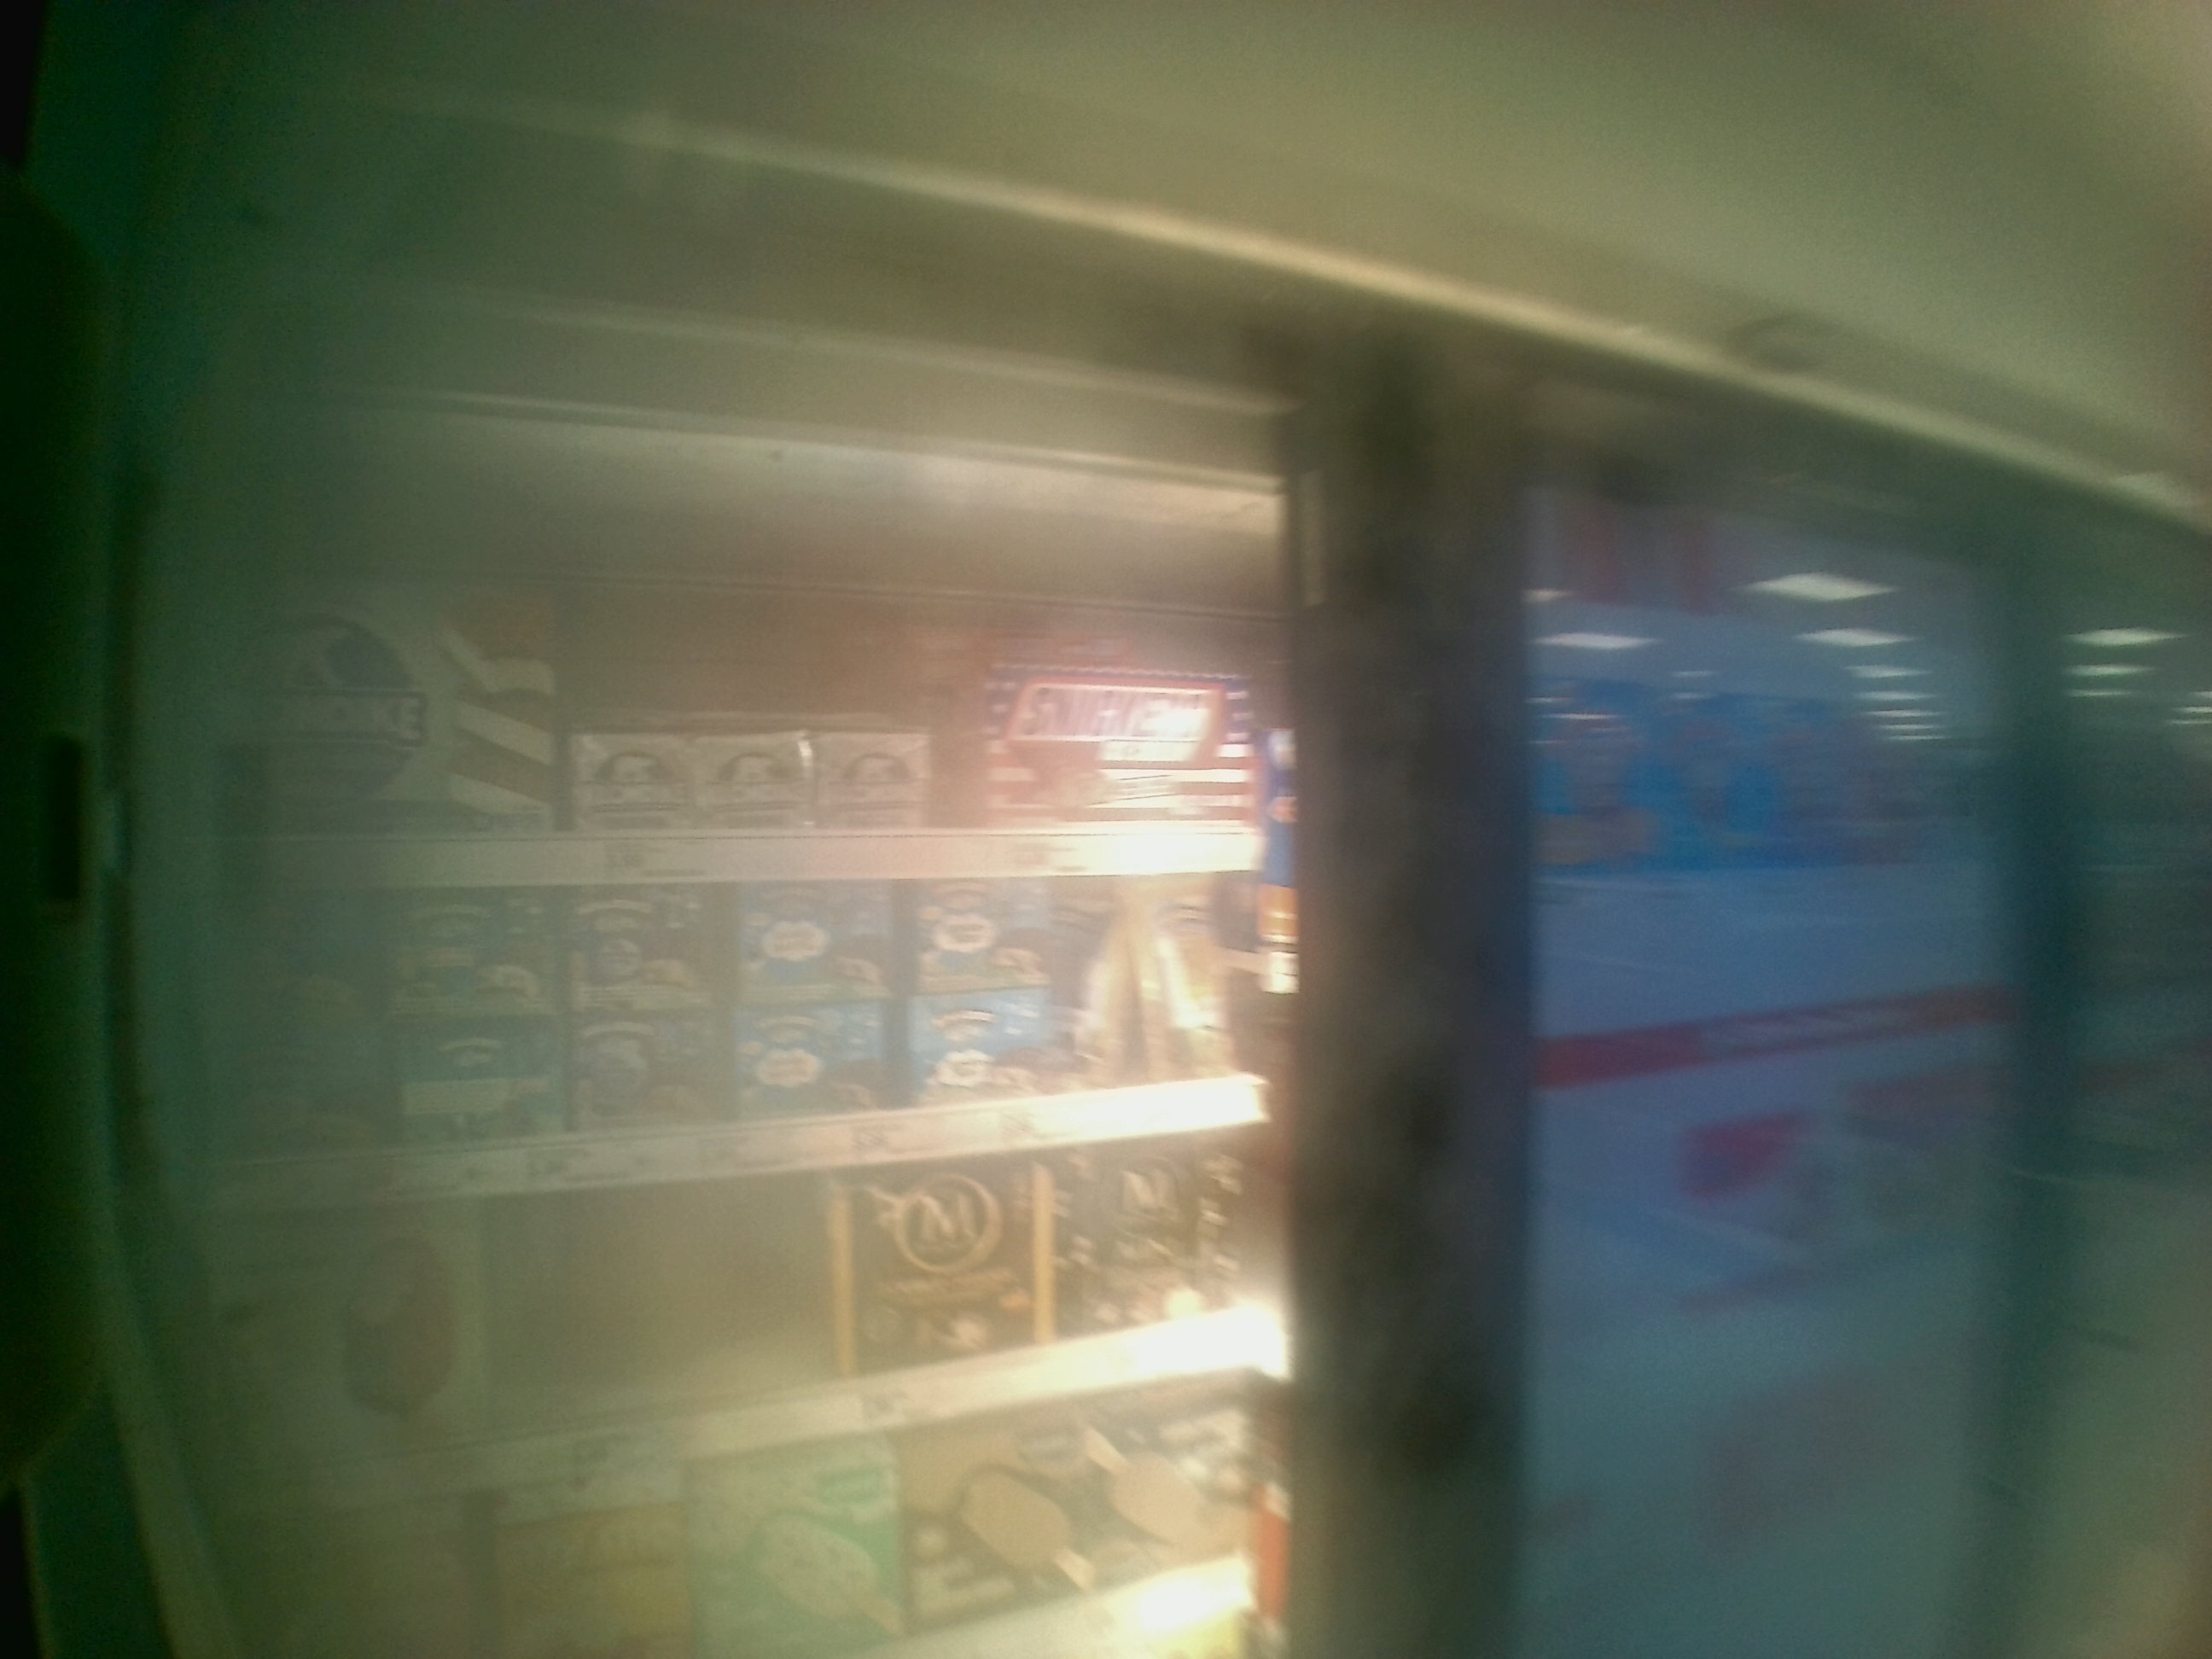shelf: (160, 483, 1280, 877), (160, 887, 1277, 1202)
